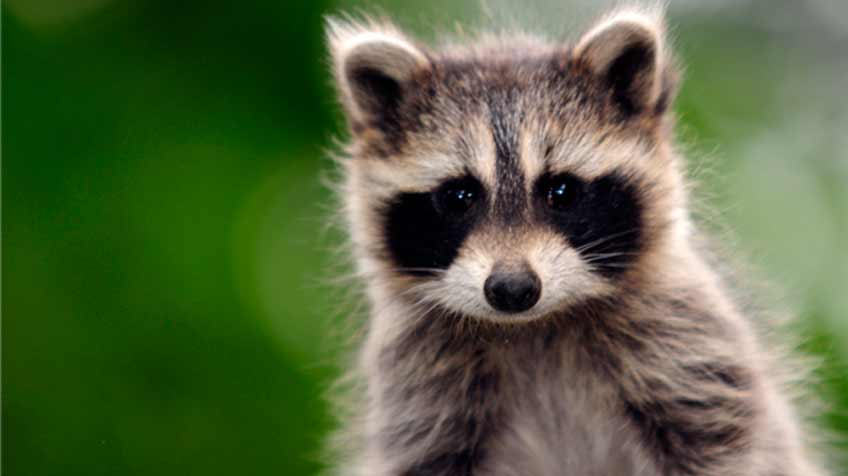raccoon: (318, 6, 796, 476)
